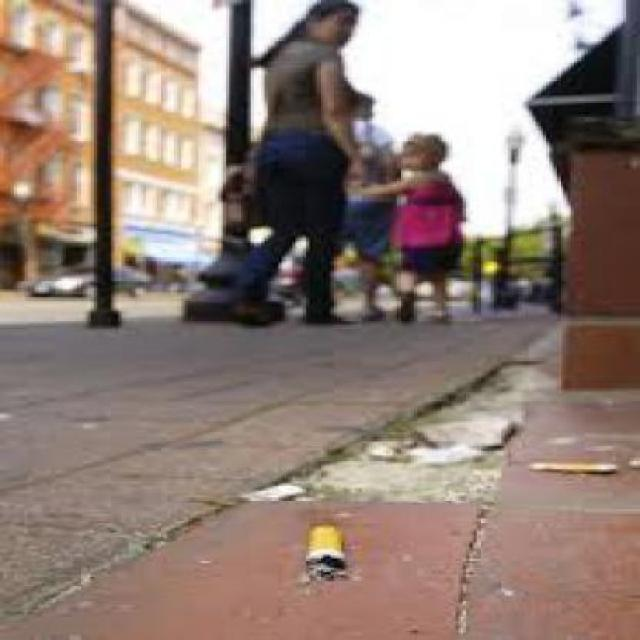cigarette: (306, 498, 376, 584), (515, 445, 636, 493)
